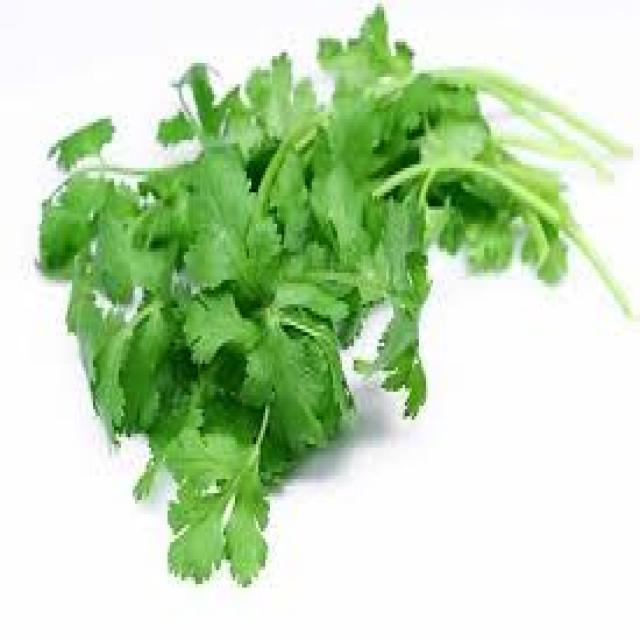organic waste: (37, 0, 638, 581), (161, 388, 265, 584), (182, 143, 274, 294), (237, 301, 326, 451)
